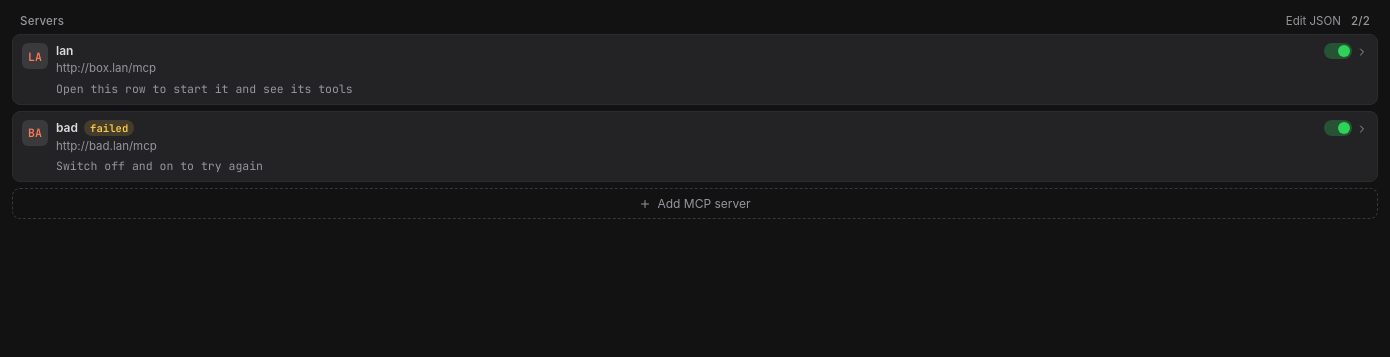
Test: the MCP tab › an entry's warning shows in the open row, and the process's own trouble wins over it
The image size is (1390, 357).
Click the text "http://box.lan/mcp": point(106, 68) 56,61 -> 156,75
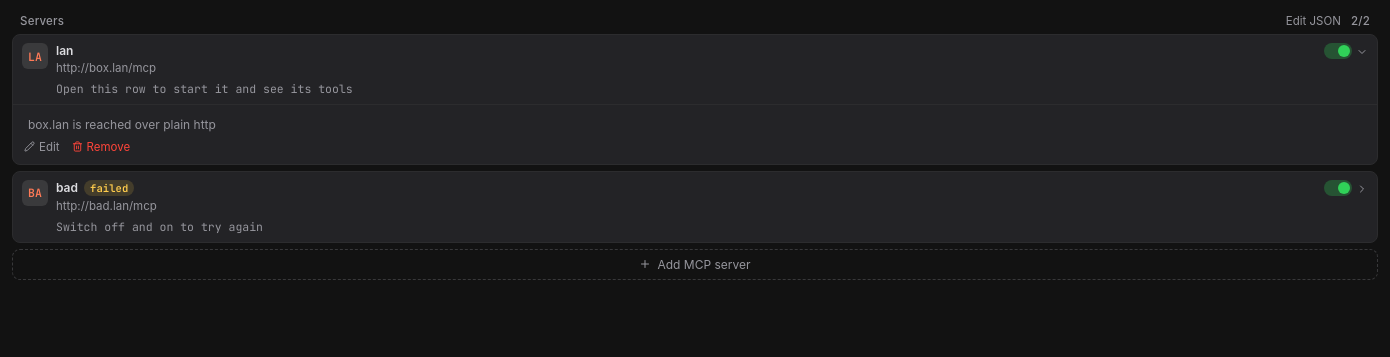
expect the text "box.lan is reached over plain http" is shown: met, box 28,117 -> 216,132
Click the text "http://bad.lan/mcp": point(106, 206) 56,199 -> 157,213
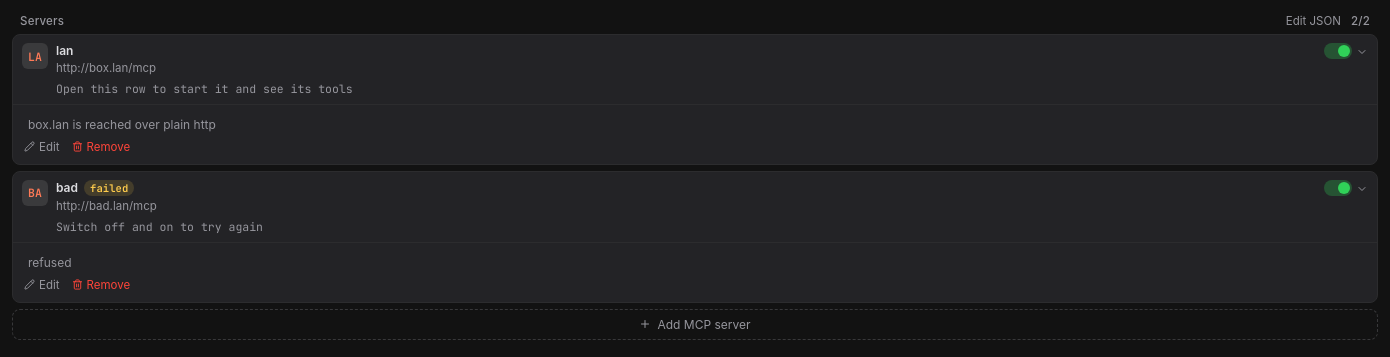
expect the text "box.lan is reached over plain http" is shown once: met, box 28,117 -> 216,132
expect the text "refused" is shown: met, box 28,254 -> 72,270
